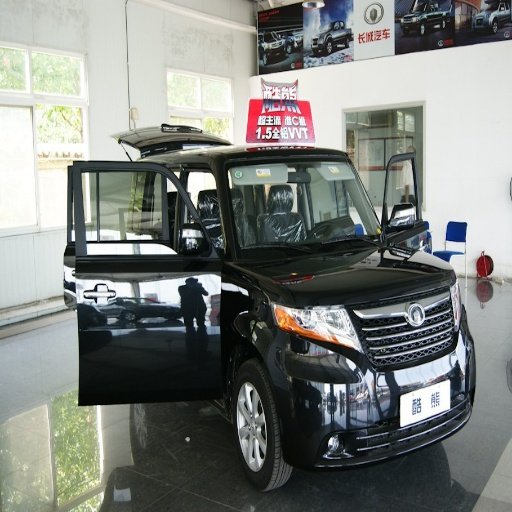front_bumper: (269, 321, 471, 467)
front_right_door: (92, 273, 217, 397)
front_right_light: (270, 303, 357, 348)
hood: (257, 241, 453, 367)
